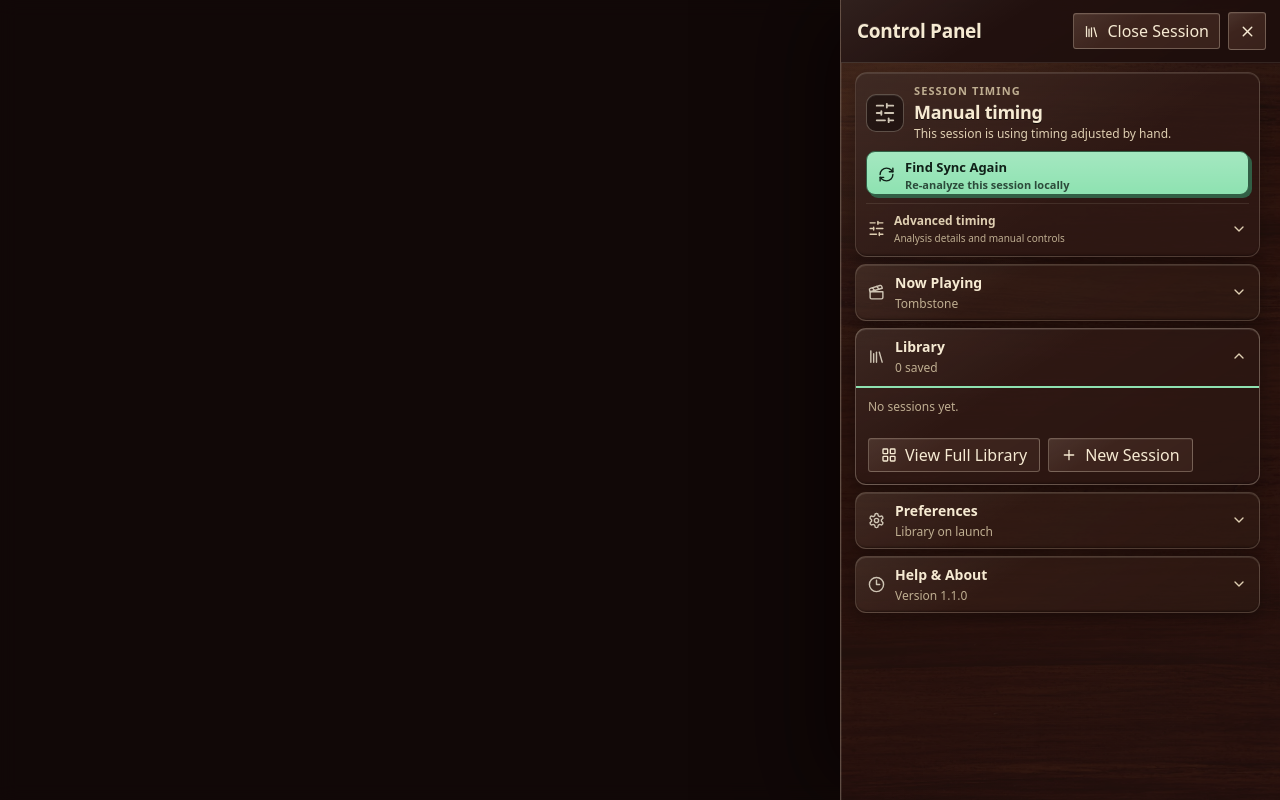
Test: CommandPanel session timing › toggles the open accordion section closed and keeps at most one section expanded
Expected: the element showing "No sessions yet. View Full Library New Session" is shown, [868,398,1193,472]
Expected: the button "View Full Library" is shown, [868,438,1040,472]
Click the button "Library 0 saved": (920, 346) [856,329,1259,384]
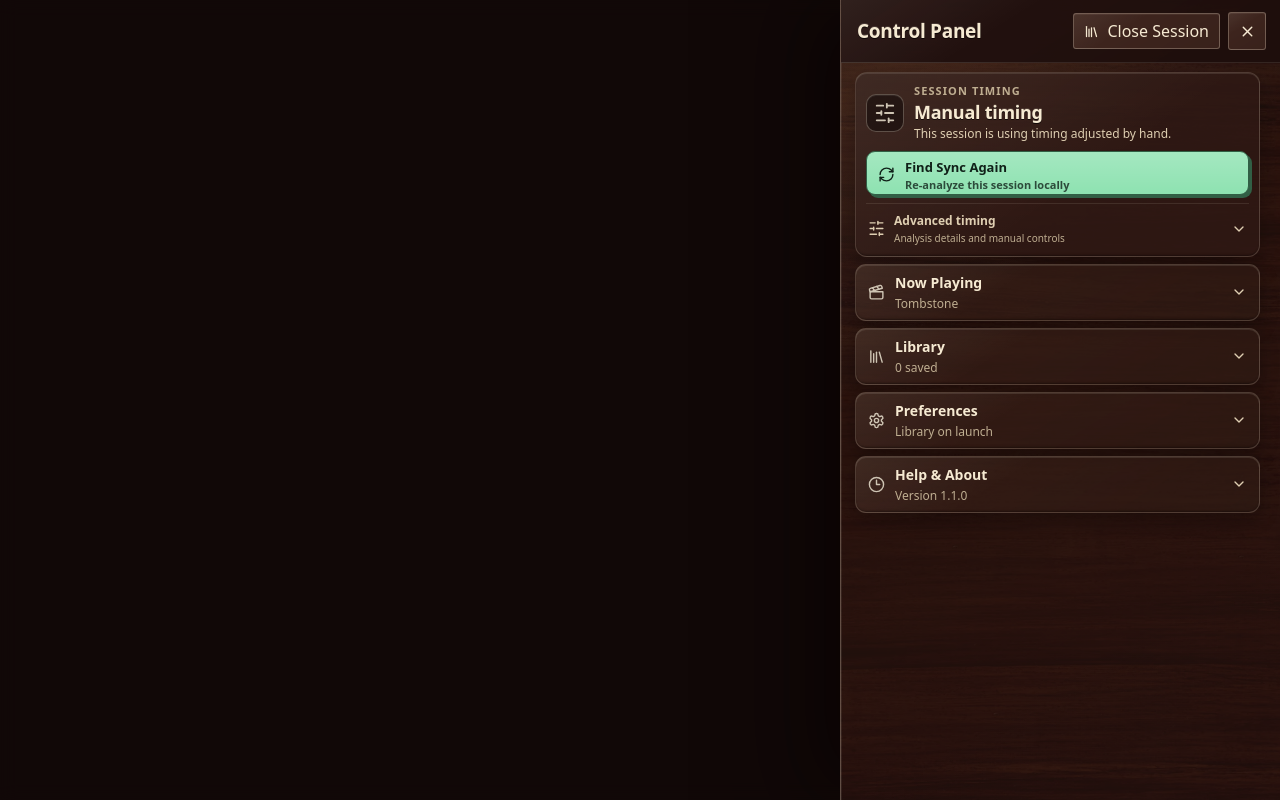
Now the button "Library 0 saved" is collapsed, box [856,329,1259,384]
Now the button "View Full Library" is gone
Click the button "Preferences Library on launch": (936, 410) [856,393,1259,448]
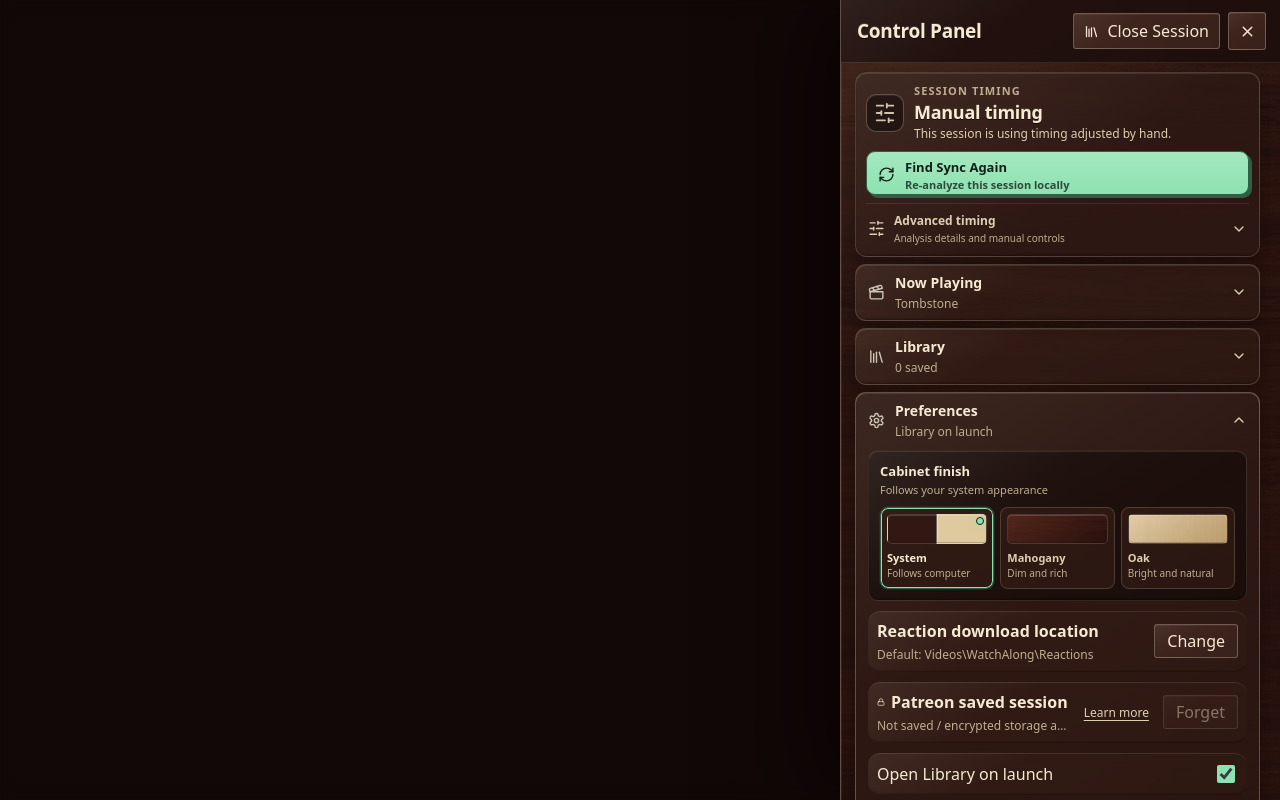
Now the button "Library 0 saved" is collapsed, box [856,329,1259,384]
Now the button "Preferences Library on launch" is expanded
Now the element named "Cabinet finish" is shown, box [880,507,1235,589]
Click the button "Preferences Library on launch": (936, 410) [856,393,1259,448]
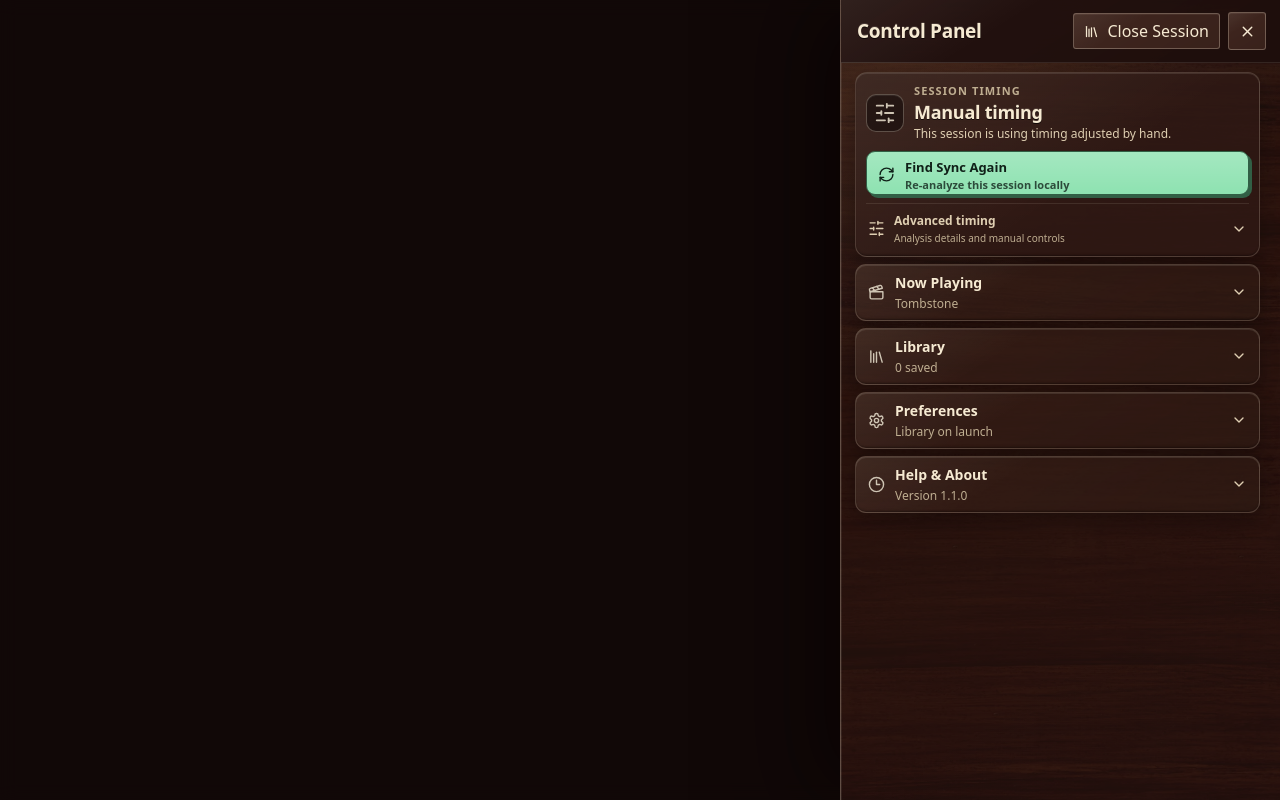
Now the button "Preferences Library on launch" is collapsed, box [856,393,1259,448]
Now the text "Cabinet finish" is gone
